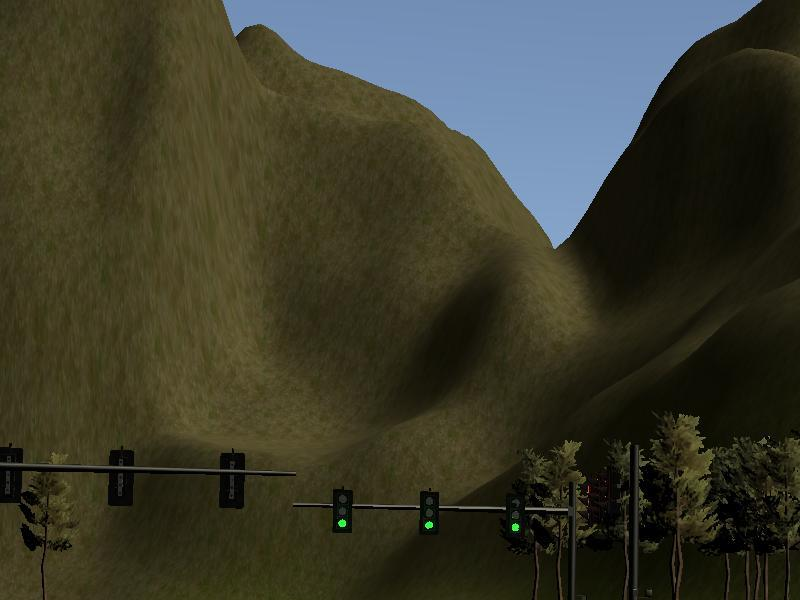Green: (504, 492, 527, 537), (422, 491, 439, 535), (333, 490, 350, 530)
